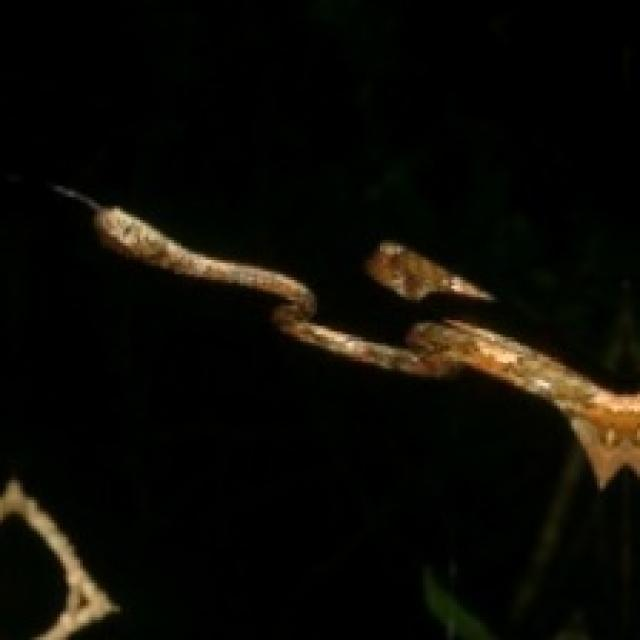philippine blunt-headed catsnake: (51, 186, 637, 486), (366, 241, 494, 301)
